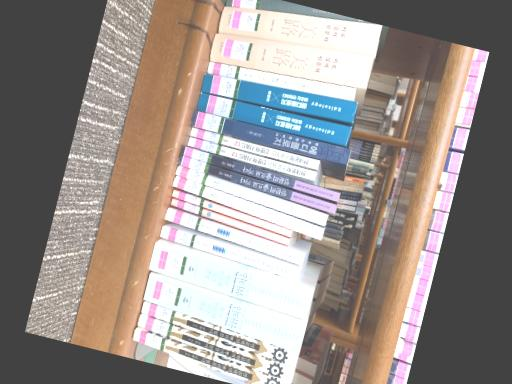book-spine: (142, 275, 305, 355), (147, 243, 313, 320), (135, 313, 294, 382), (139, 302, 297, 367), (171, 175, 323, 241), (175, 155, 335, 214), (208, 33, 372, 90), (174, 165, 327, 226), (178, 145, 339, 202), (189, 110, 350, 165), (131, 329, 289, 384), (217, 7, 381, 58), (196, 93, 350, 146), (163, 208, 304, 265), (200, 73, 356, 124), (158, 225, 299, 281), (185, 136, 315, 182), (206, 61, 355, 101), (170, 190, 290, 238), (169, 198, 289, 246), (188, 127, 319, 170), (225, 0, 376, 24)
